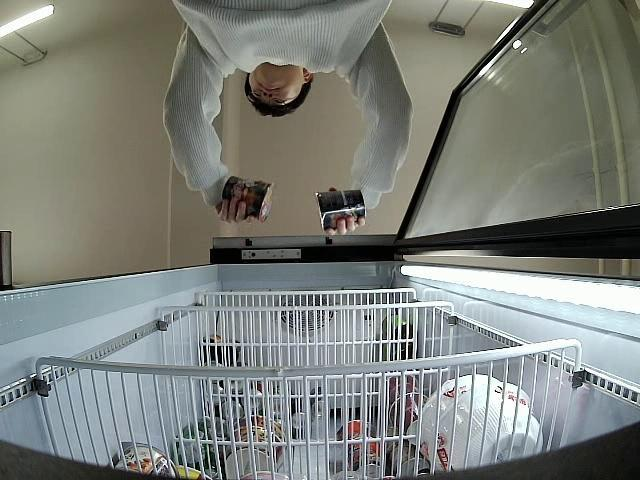08_buldak_S: (221, 175, 275, 221), (314, 190, 368, 230)
